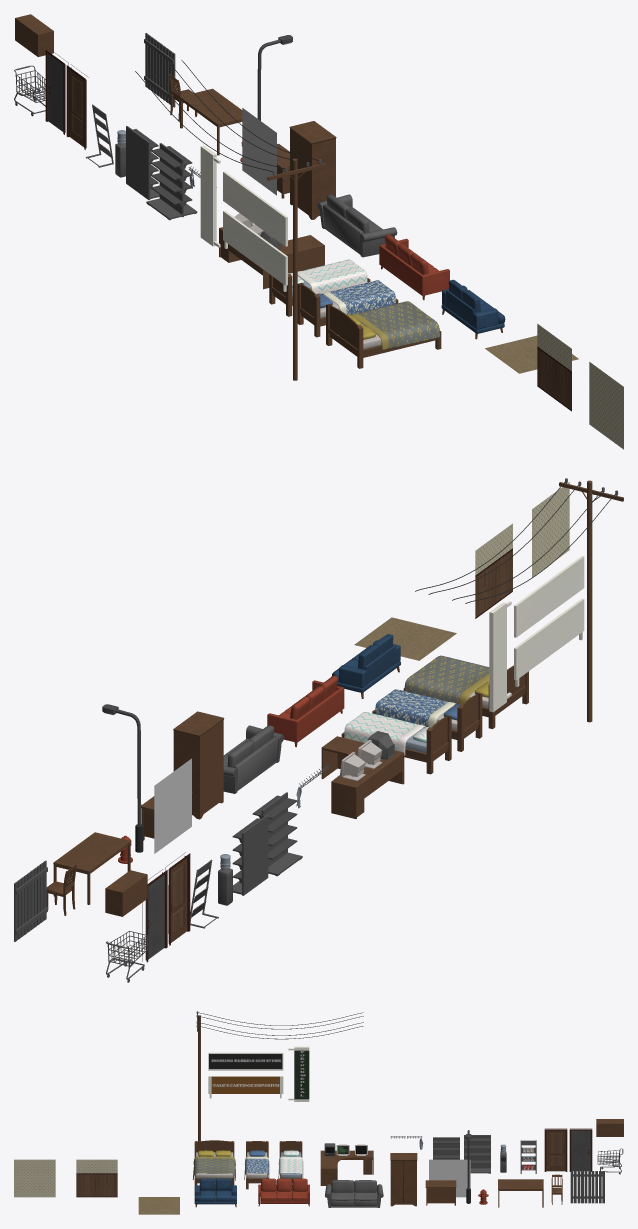
The model's file is props.fbx.
The picture shows the model from 3 angles, top to bottom: view 1: azimuth 30°, elevation 25°; view 2: azimuth 150°, elevation 25°; view 3: azimuth 270°, elevation 25°; orthographic projection. The views are drawn at different scales.
Parts seen in each view (by area): view 1: mattress, closet, bed frame 1.001, couch3, couch2, shelf base 1, bed frame kid, Plane.011, Plane.006, Plane.008, store sign2, store sign1 (+14 smaller); view 2: closet, mattress, office table, bed frame kid, bed frame 1.001, couch2, Plane.008, Plane.011, couch3, Plane.006, store sign2, store sign1 (+17 smaller); view 3: mattress, Plane.006, Plane.011, couch3, store sign1, closet, store sign2, couch2, fence, Plane.008, couch1, door (+15 smaller).
Boxes of the visible parts, bbox=[...] form: mattress: bbox=[326, 301, 441, 368]; closet: bbox=[289, 121, 336, 219]; bed frame 1.001: bbox=[297, 280, 398, 337]; couch3: bbox=[317, 194, 397, 257]; couch2: bbox=[379, 234, 449, 300]; shelf base 1: bbox=[146, 143, 197, 220]; bed frame kid: bbox=[269, 259, 370, 316]; Plane.011: bbox=[537, 324, 571, 411]; Plane.006: bbox=[589, 362, 623, 449]; Plane.008: bbox=[242, 108, 276, 195]; store sign2: bbox=[223, 210, 287, 291]; store sign1: bbox=[223, 171, 287, 246]; closet: bbox=[173, 711, 224, 819]; mattress: bbox=[403, 655, 528, 729]; office table: bbox=[321, 736, 404, 818]; bed frame kid: bbox=[341, 712, 451, 774]; bed frame 1.001: bbox=[372, 689, 482, 751]; couch2: bbox=[267, 675, 344, 747]; Plane.008: bbox=[154, 758, 191, 853]; Plane.011: bbox=[475, 523, 512, 618]; couch3: bbox=[223, 725, 284, 793]; Plane.006: bbox=[532, 482, 569, 577]; store sign2: bbox=[514, 598, 584, 686]; store sign1: bbox=[514, 556, 584, 637]; mattress: bbox=[192, 1140, 235, 1185]; Plane.006: bbox=[14, 1159, 55, 1197]; Plane.011: bbox=[76, 1159, 117, 1197]; couch3: bbox=[325, 1180, 383, 1207]; store sign1: bbox=[208, 1052, 283, 1070]; closet: bbox=[390, 1153, 417, 1206]; store sign2: bbox=[208, 1076, 283, 1098]; couch2: bbox=[258, 1178, 309, 1206]; fence: bbox=[570, 1171, 604, 1203]; Plane.008: bbox=[429, 1159, 470, 1197]; couch1: bbox=[194, 1178, 236, 1207]; door: bbox=[544, 1128, 567, 1171].
Size of the model in its own units: 873 by 707 by 2939.
